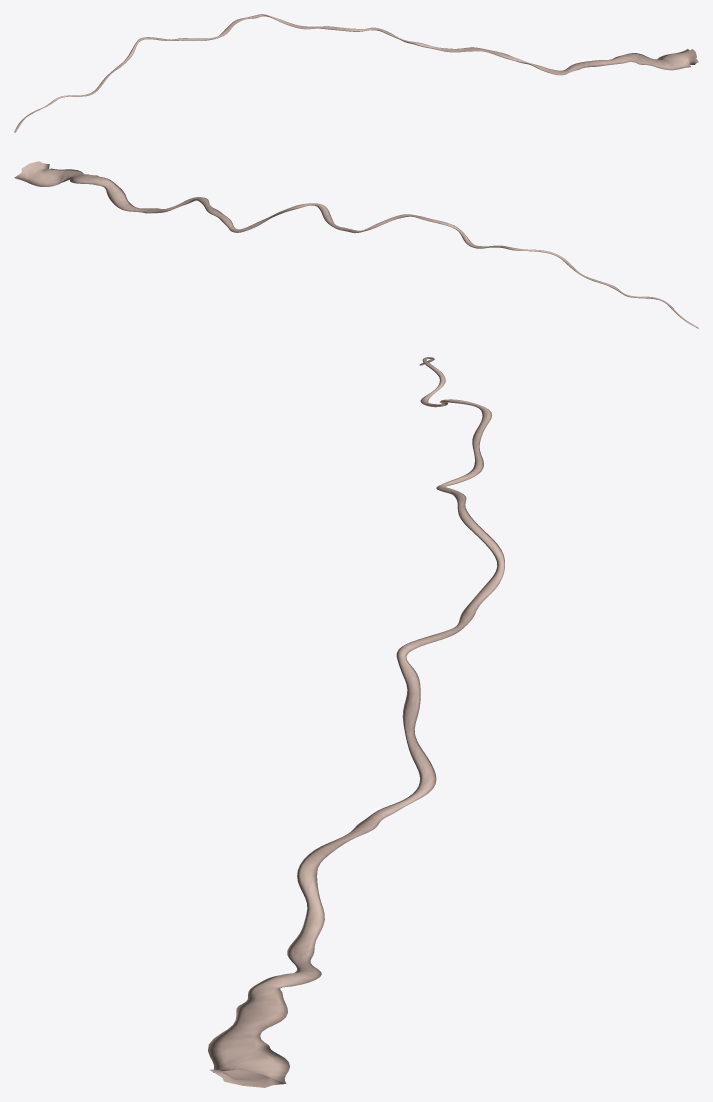
Rendered from saffron-thread.glb.
3 views of the same model, one above another, from view 1: azimuth 30°, elevation 25°; view 2: azimuth 150°, elevation 25°; view 3: azimuth 270°, elevation 25° (orthographic). The views are drawn at different scales.
Parts seen in each view (by area): view 1: Hero Stigma; view 2: Hero Stigma; view 3: Hero Stigma.
Boxes of the visible parts, x1,y1,x2,y2 form: Hero Stigma: [14, 14, 698, 132]; Hero Stigma: [14, 161, 698, 328]; Hero Stigma: [208, 357, 504, 1087].
Size of the model in its own units: 4.54 by 0.6871 by 0.9128.
